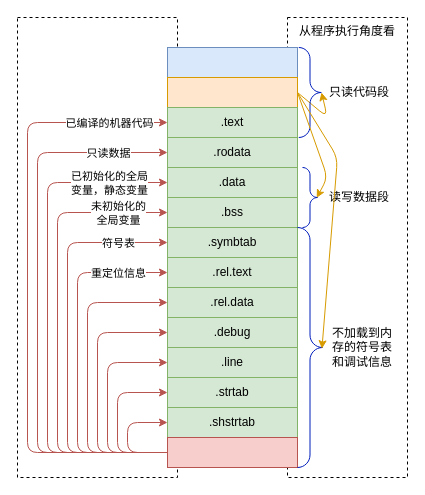
This 425x495 diagram has some shape labels left out. The centre of each missing label's shape, as x and y in pixels:
ELF Header: the point at 232,62
Program Header Table: the point at 232,92
Section Header Table: the point at 232,452
从链接角度看: the point at 97,247
